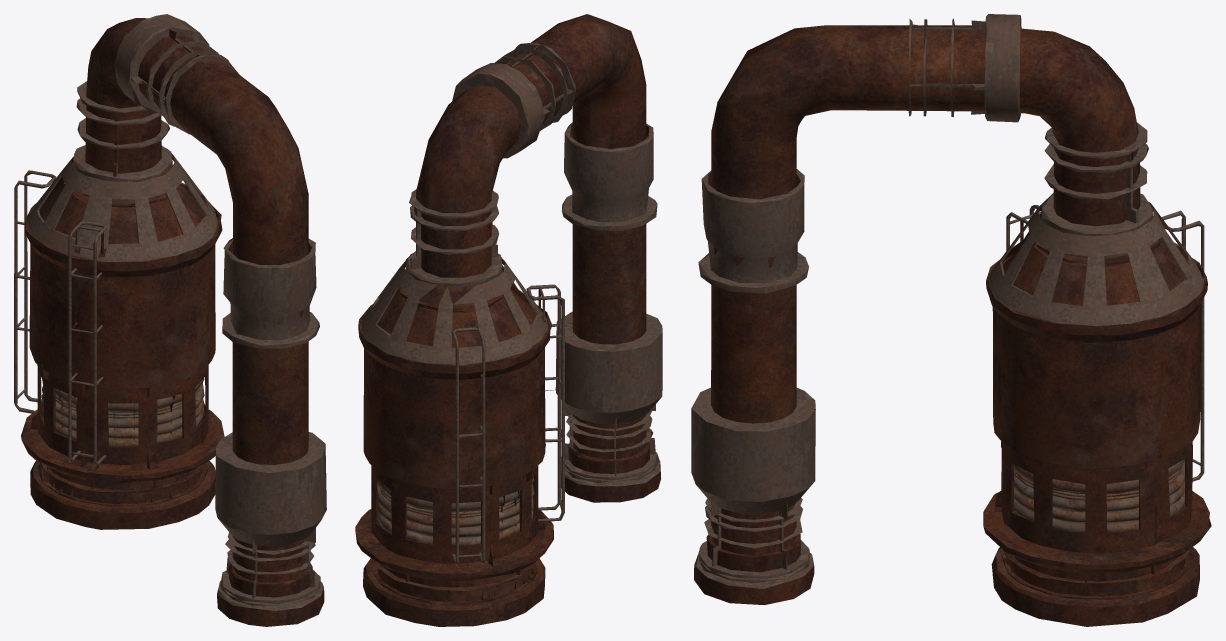
Rendered from SM_SmokePipes_01.fbx.
3 views of the same model, side by side, from view 1: azimuth 30°, elevation 25°; view 2: azimuth 150°, elevation 25°; view 3: azimuth 270°, elevation 25° (orthographic). The views are drawn at different scales.
Parts seen in each view (by area): view 1: SM_SmokePipes_01_LOD0; view 2: SM_SmokePipes_01_LOD0; view 3: SM_SmokePipes_01_LOD0.
Boxes of the visible parts, x1,y1,x2,y2 form: SM_SmokePipes_01_LOD0: (14,14,326,626); SM_SmokePipes_01_LOD0: (355,14,662,626); SM_SmokePipes_01_LOD0: (691,14,1211,626).
Size of the model in its own units: 104 by 236 by 281.
Materials: 1 (1 with a texture image).
